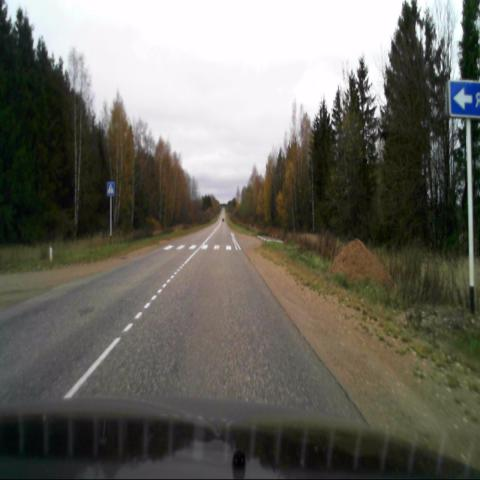5_19_1: (106, 181, 115, 197)
